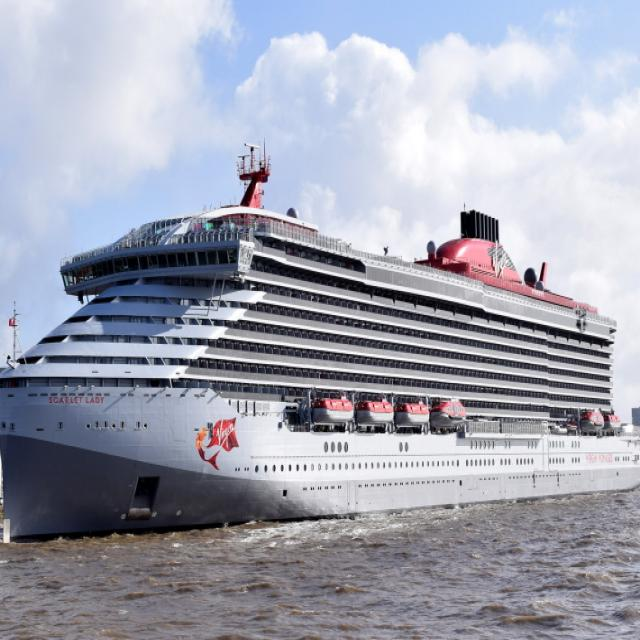cruises: (1, 140, 640, 553)
